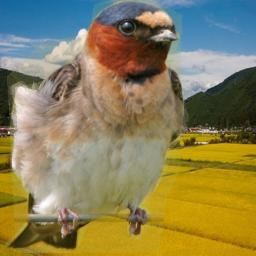Swallow: (5, 0, 190, 253)
